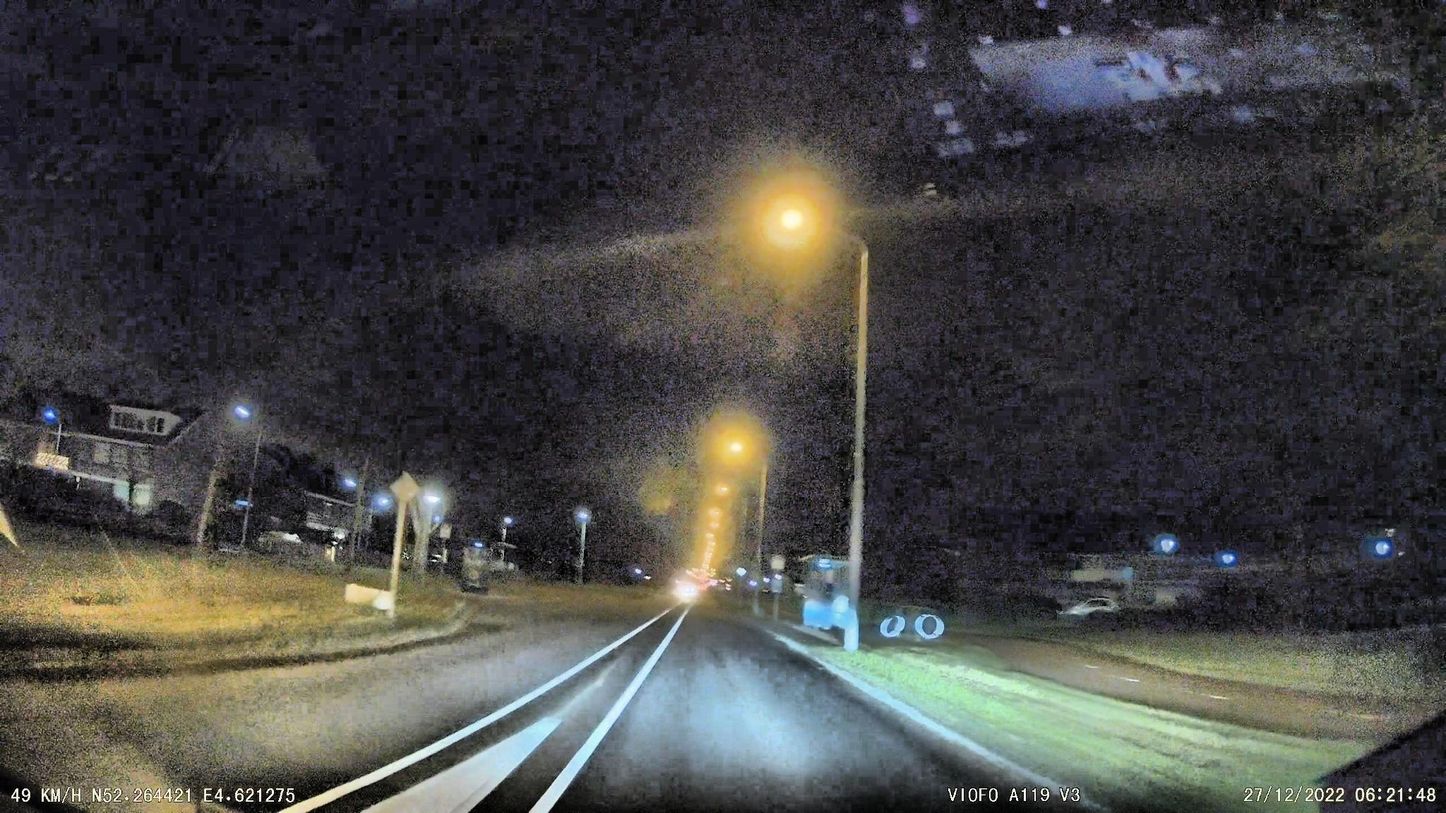Roads: (106, 596, 1094, 813)
